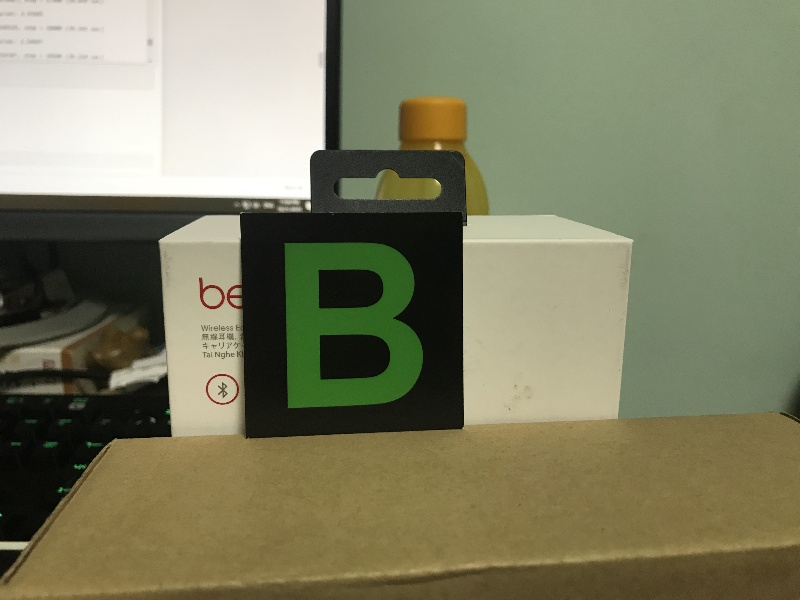B-12: (248, 216, 460, 425)
